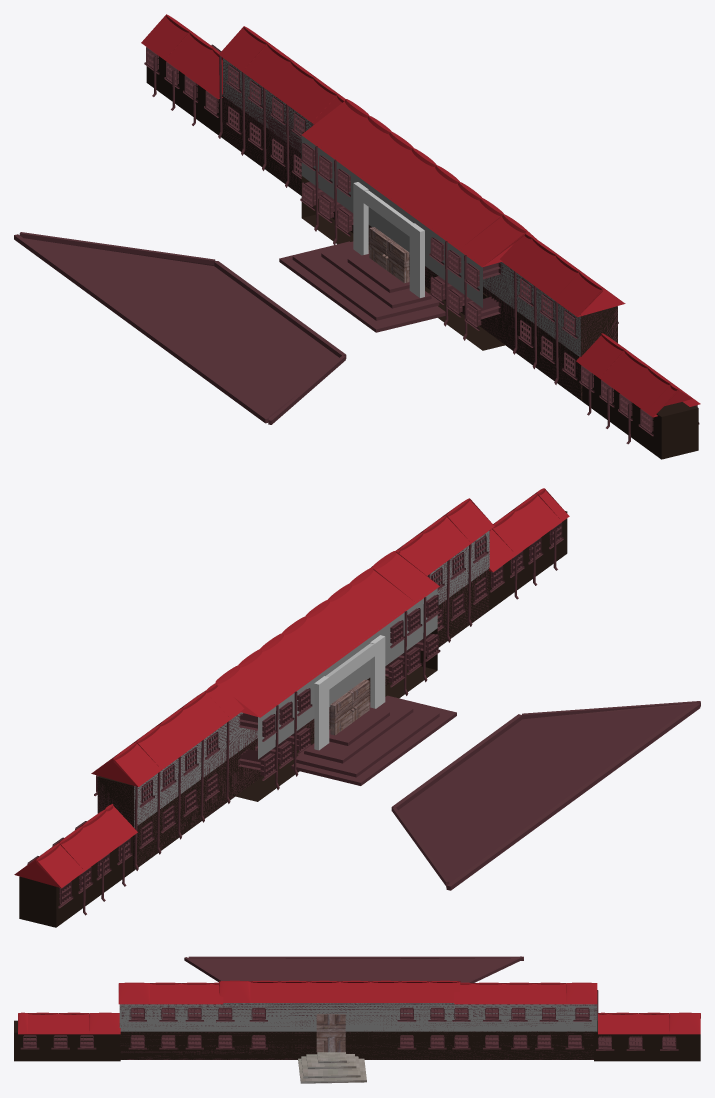
The model's file is museum.obj.
3 views of the same model, one above another, from view 1: azimuth 30°, elevation 25°; view 2: azimuth 150°, elevation 25°; view 3: azimuth 270°, elevation 25° (orthographic). The views are drawn at different scales.
Visible parts, largest first — view 1: Plane.014_Plane.021; view 2: Plane.014_Plane.021; view 3: Plane.014_Plane.021.
Boxes of the visible parts, x1,y1,x2,y2 form: Plane.014_Plane.021: [14, 14, 700, 459]; Plane.014_Plane.021: [14, 488, 700, 927]; Plane.014_Plane.021: [14, 956, 700, 1083].
Size of the model in its own units: 336 by 95.98 by 806.
